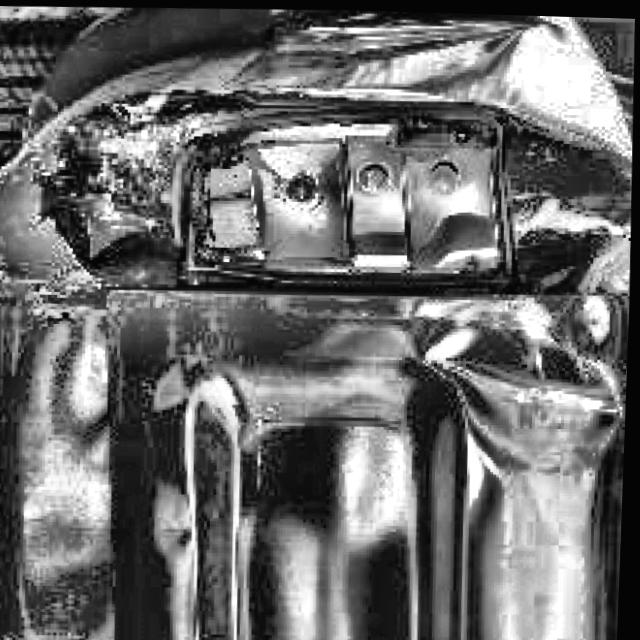tail_lamp: (61, 104, 495, 291)
